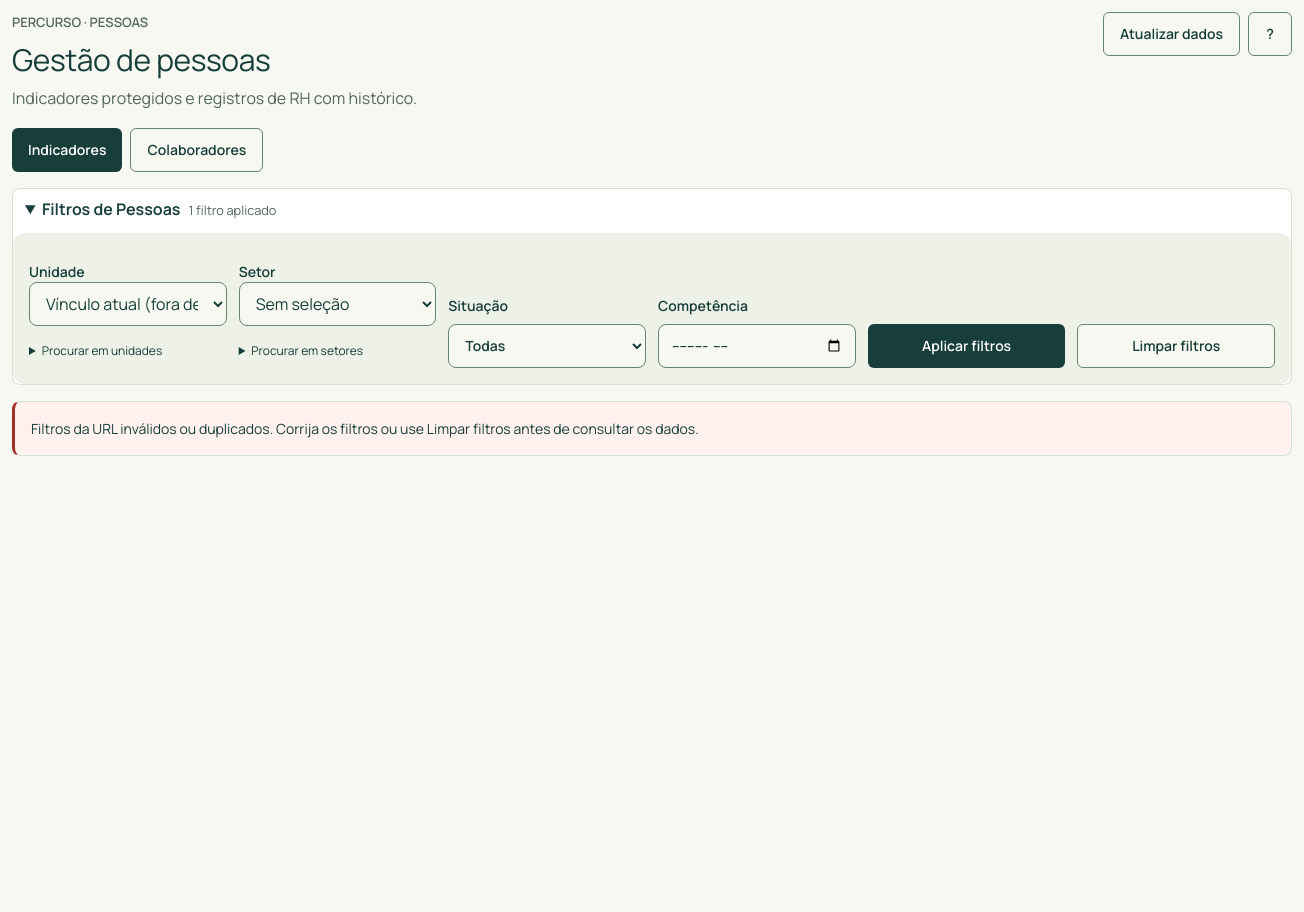
Scenario: não amplia consulta ao receber filtros inválidos ou duplicados: unitId=invalido
The width and height of the screenshot is (1304, 912).
expect the text "Filtros da URL inválidos" is shown: met, box [31,419,699,438]
Click the button "Limpar filtros": click(1176, 346) [1077,324,1275,368]
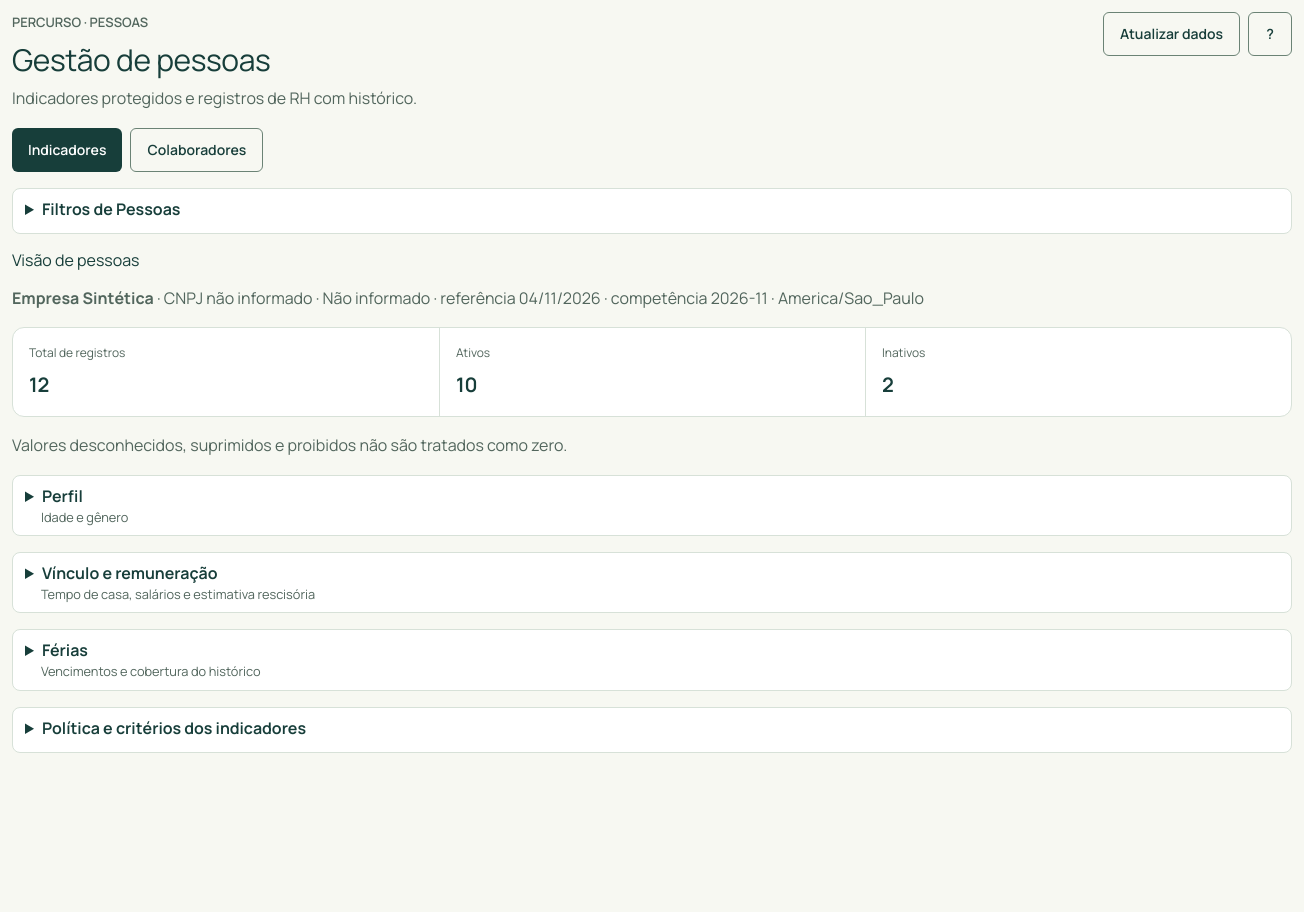
expect the heading "Visão de pessoas" is shown: met, box [12,249,139,271]
